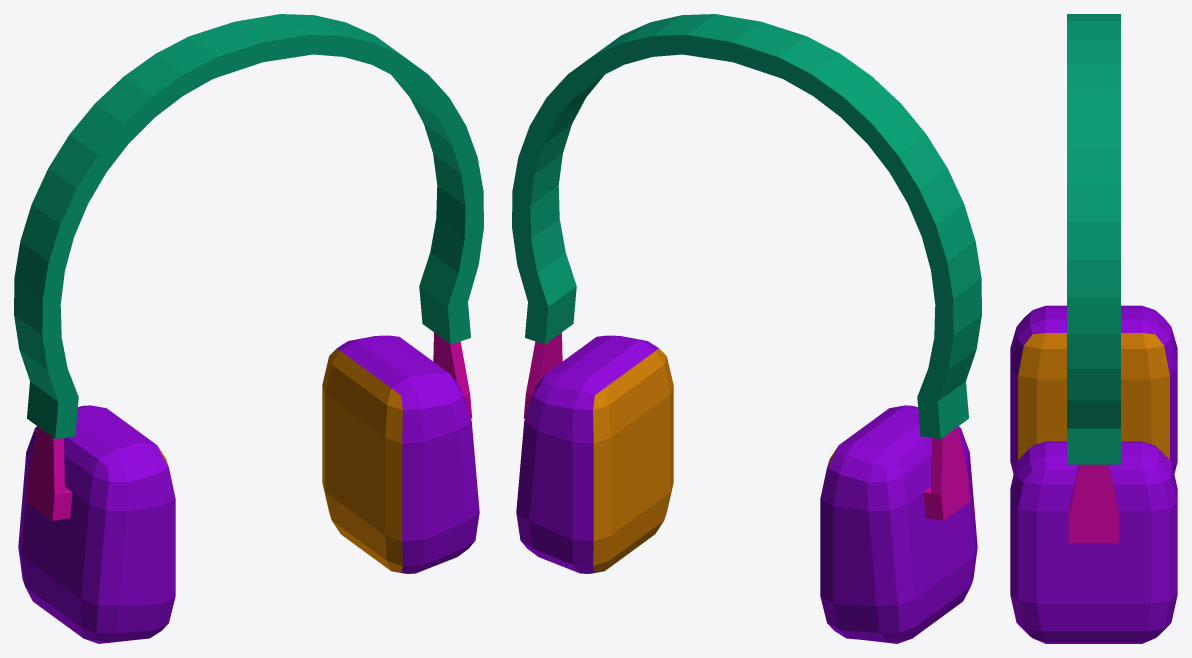
The model's file is Headphone.fbx.
3 renders of one model, left to right at view 1: azimuth 30°, elevation 25°; view 2: azimuth 150°, elevation 25°; view 3: azimuth 270°, elevation 25°, orthographic. The views are drawn at different scales.
Parts seen in each view (by area): view 1: Cube.003; view 2: Cube.003; view 3: Cube.003.
Boxes of the visible parts, x1=… form: Cube.003: x1=14, y1=14, x2=483, y2=643; Cube.003: x1=512, y1=14, x2=981, y2=643; Cube.003: x1=1010, y1=14, x2=1177, y2=643.
Bounding box in the file's own units: 16.99 × 20.44 × 5.87.
